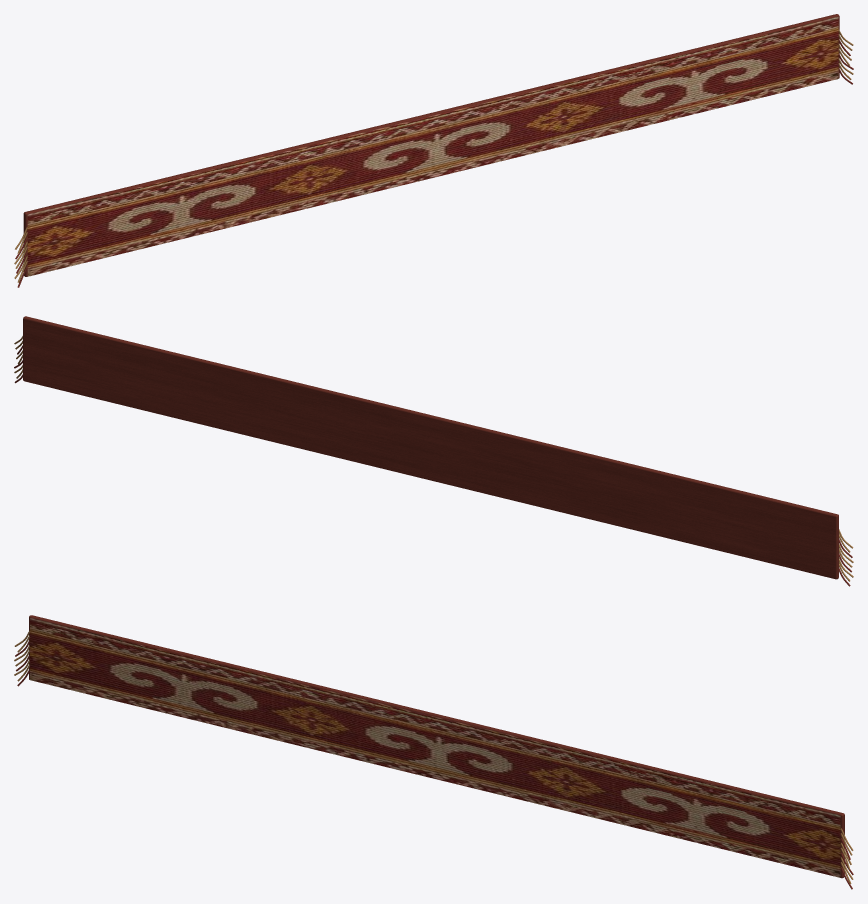
File: woven-yurt-band.glb
3 views of the same model, one above another, from view 1: azimuth 30°, elevation 25°; view 2: azimuth 150°, elevation 25°; view 3: azimuth 330°, elevation 25° (orthographic).
Parts seen in each view (by area): view 1: Woven binding band; view 2: Woven binding band; view 3: Woven binding band.
Boxes of the visible parts, x1=… form: Woven binding band: x1=14, y1=14, x2=853, y2=287; Woven binding band: x1=14, y1=316, x2=853, y2=586; Woven binding band: x1=14, y1=615, x2=853, y2=889.
Bounding box in the file's own units: 2.19 × 0.1775 × 0.02.
Materials: 4 (4 with a texture image).
